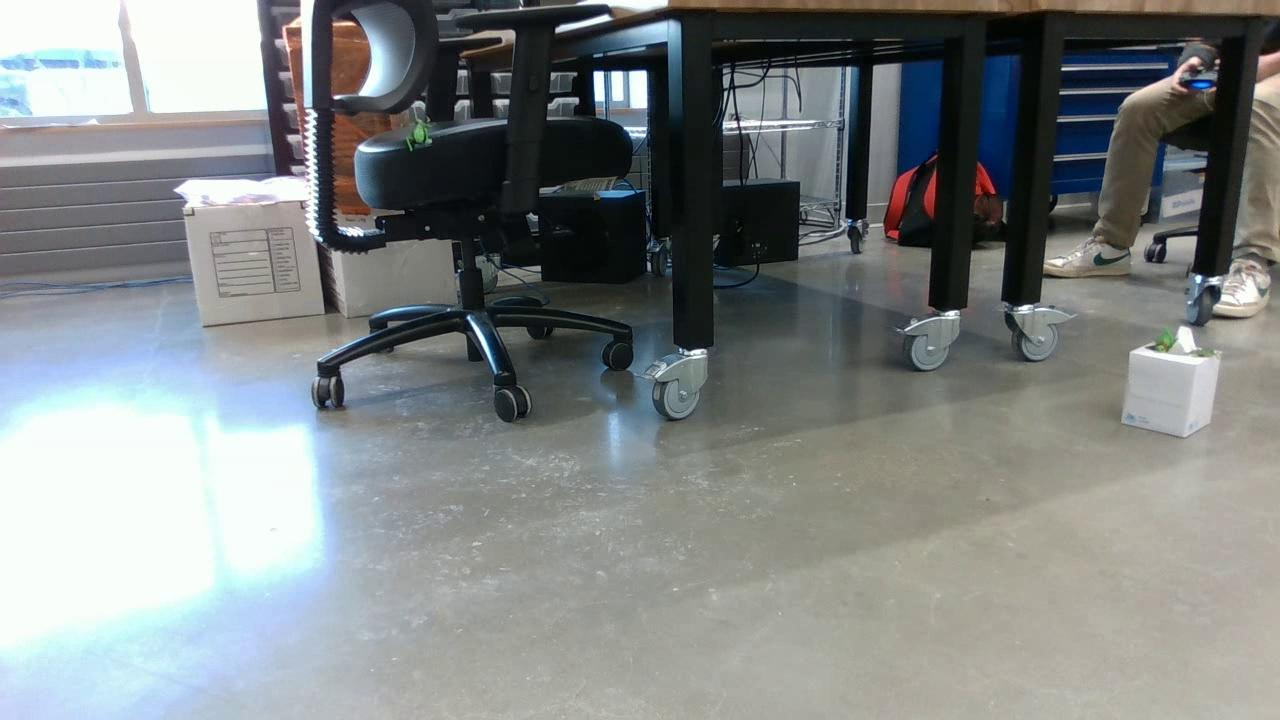grasshopper: (407, 109, 436, 151), (1152, 327, 1176, 352)
